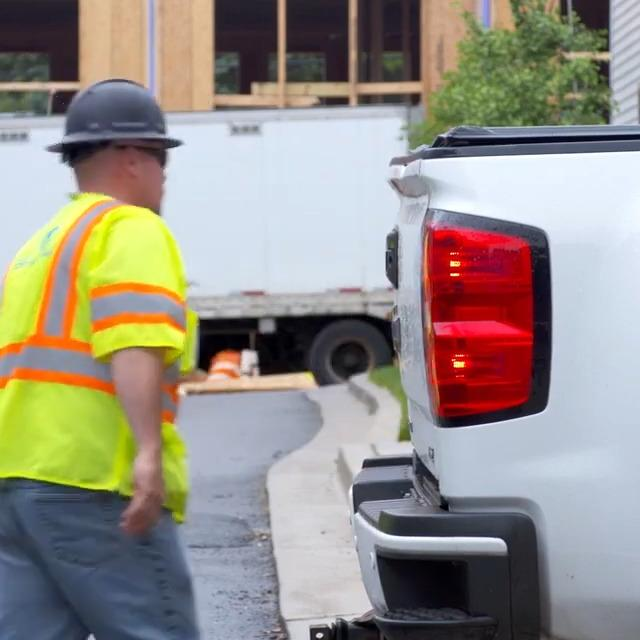Hardhat: (47, 76, 185, 153)
NO-Mask: (115, 171, 166, 215)
Person: (0, 77, 197, 640)
Safety Cone: (208, 351, 240, 380)
Safety Vest: (0, 197, 197, 508)
trailer: (0, 100, 413, 388)
vehicle: (234, 115, 640, 640)
